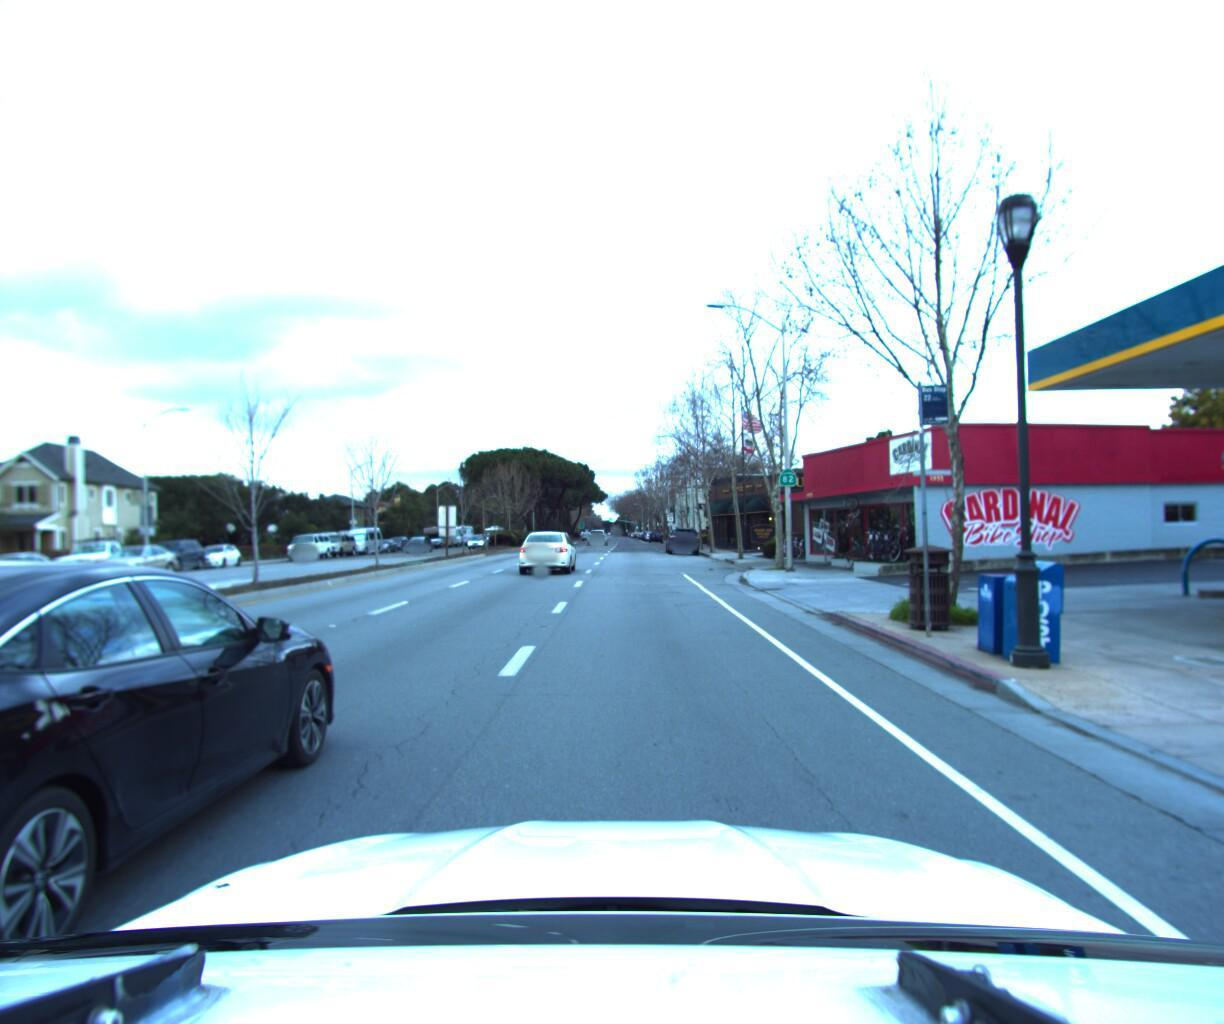bicycle: (876, 516, 936, 557), (872, 522, 931, 557), (867, 522, 924, 557), (860, 522, 917, 556), (854, 522, 909, 556), (772, 527, 797, 556), (784, 531, 809, 555)
car: (49, 534, 160, 582), (89, 544, 189, 585), (515, 525, 579, 573), (137, 537, 215, 574), (190, 541, 249, 569), (341, 521, 387, 554), (284, 530, 335, 558), (315, 526, 361, 556), (667, 520, 701, 551), (401, 533, 431, 551), (463, 532, 488, 548), (586, 526, 608, 541)
